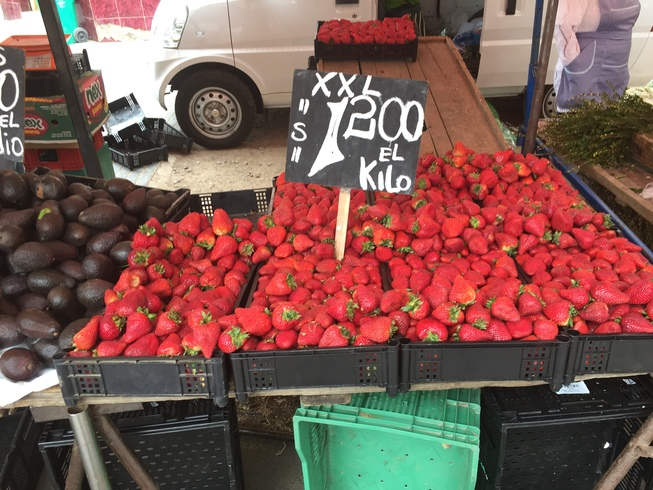precio: (279, 64, 429, 202)
